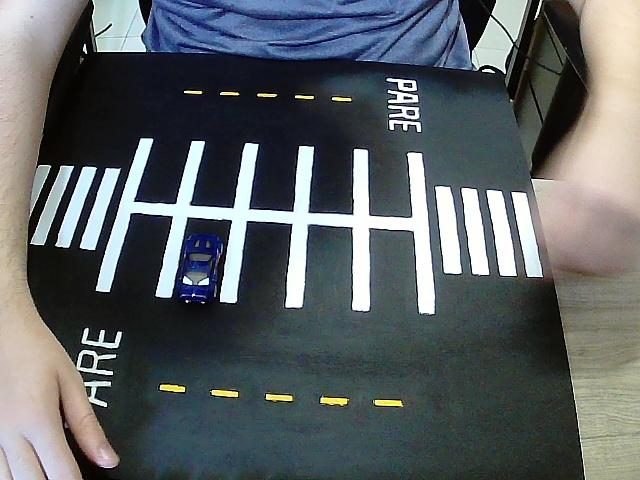Carro: (176, 233, 224, 306)
